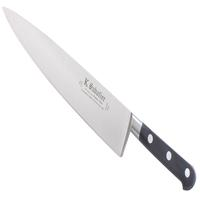knife: (1, 4, 195, 183)
